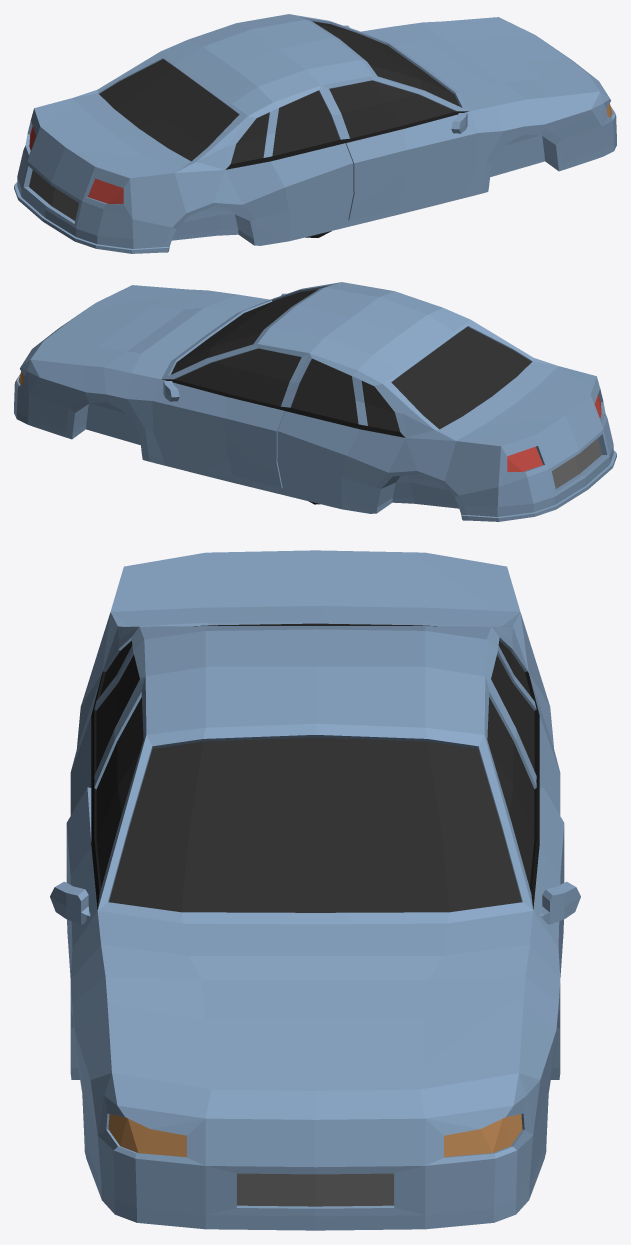
File: sedan.glb
The picture shows the model from 3 angles, top to bottom: view 1: azimuth 30°, elevation 25°; view 2: azimuth 150°, elevation 25°; view 3: azimuth 270°, elevation 25°; orthographic projection. The views are drawn at different scales.
Visible parts, largest first — view 1: sedan_Body, sedan_Glass, sedan_Trim, sedan_Tail; view 2: sedan_Body, sedan_Glass, sedan_Trim, sedan_Tail; view 3: sedan_Body, sedan_Glass, sedan_Trim, sedan_Head.
Boxes of the visible parts, <box> form: sedan_Body: <box>14,14,616,253</box>; sedan_Glass: <box>99,21,459,163</box>; sedan_Trim: <box>29,111,468,220</box>; sedan_Tail: <box>29,126,123,203</box>; sedan_Body: <box>14,282,616,521</box>; sedan_Glass: <box>171,289,531,431</box>; sedan_Trim: <box>162,379,601,488</box>; sedan_Tail: <box>507,394,601,471</box>; sedan_Body: <box>50,550,580,1230</box>; sedan_Glass: <box>96,623,534,912</box>; sedan_Trim: <box>91,671,539,1206</box>; sedan_Head: <box>108,1114,522,1157</box>.
Bounding box in the file's own units: 4.12 × 1.41 × 1.77.
